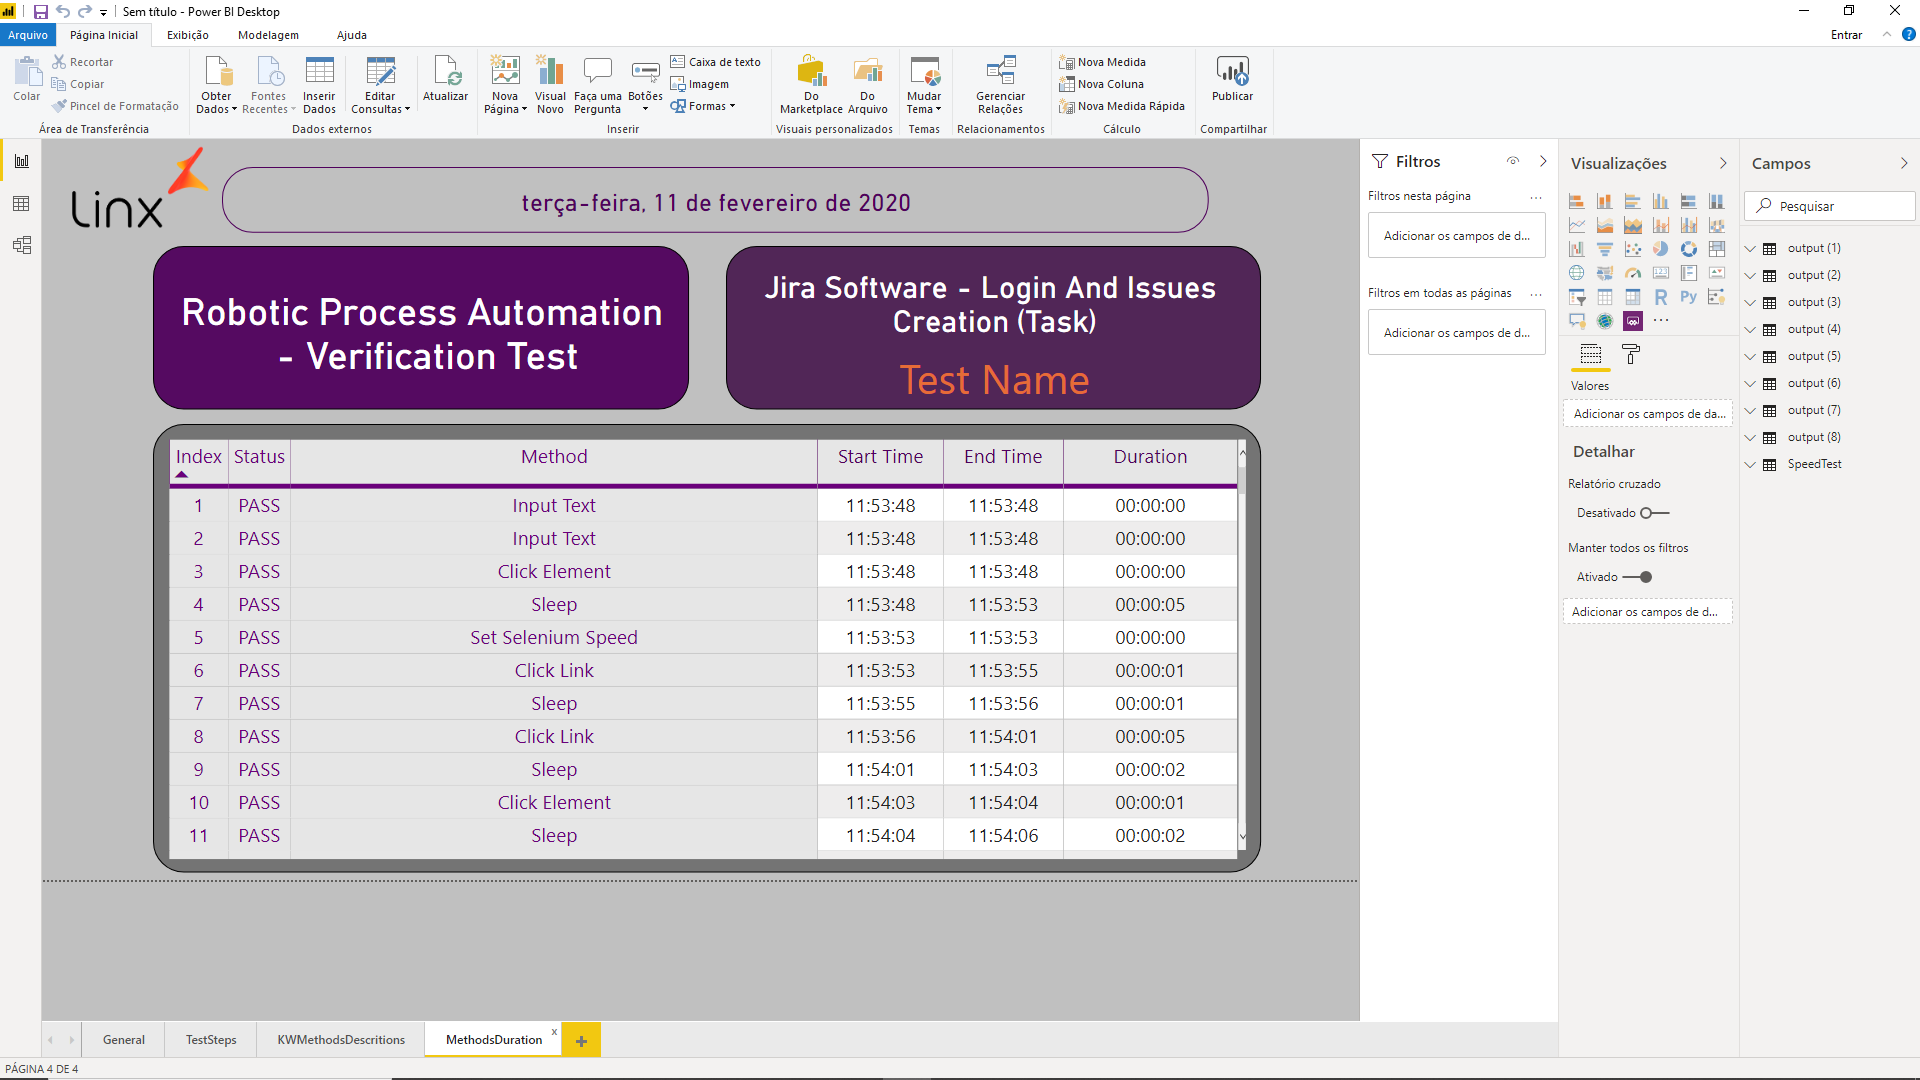

What the dashboard file says about the page in this screenshot:
{"tool":"powerbi","page":{"name":"MethodsDuration","canvas":[1280,720],"ordinal":3},"visuals":[{"type":"card","fields":{"Values":["Min(output (2).doc)"]},"box":[107.9,104,520.9,159.4],"z":0},{"type":"card","fields":{"Values":["Min(output (3).Attribute:name)"]},"box":[664.8,104,520,159.4],"z":1000},{"type":"image","box":[19.3,0,155.8,90.9],"z":2000},{"type":"tableEx","fields":{"Values":["Sum(KeywordsStepsDuration.Index)","KeywordsStepsDuration.kw.status.Attribute:status","KeywordsStepsDuration.kw.Attribute:name","KeywordsStepsDuration.Start Time","KeywordsStepsDuration.End Time","KeywordsStepsDuration.Duration"]},"box":[107.9,277,1077,436],"z":3000},{"type":"card","fields":{"Values":["Min(output (6).Data)"]},"box":[175,27,959,64],"z":4000}]}

Visuals, with their boxes on the page's 1280x720 design canvas (x1, y1, x2, y2). These are canvas units, not pixel positions in the 1920x1080 screenshot, which may show the page scaled, cropped or inside an application window:
card - Min(output (2).doc): 108, 104, 629, 263
card - Min(output (3).Attribute:name): 665, 104, 1185, 263
image: 19, 0, 175, 91
tableEx - Sum(KeywordsStepsDuration.Index) x KeywordsStepsDuration.kw.status.Attribute:status: 108, 277, 1185, 713
card - Min(output (6).Data): 175, 27, 1134, 91
